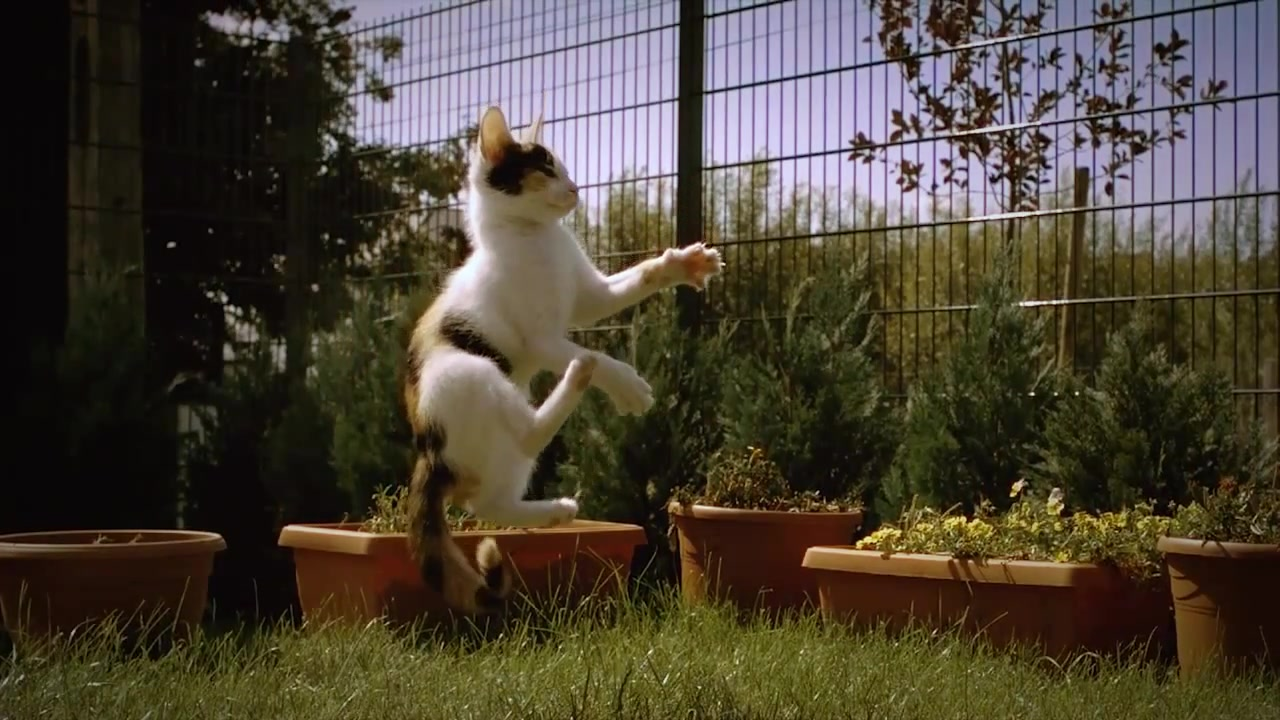cat: (397, 102, 730, 612)
